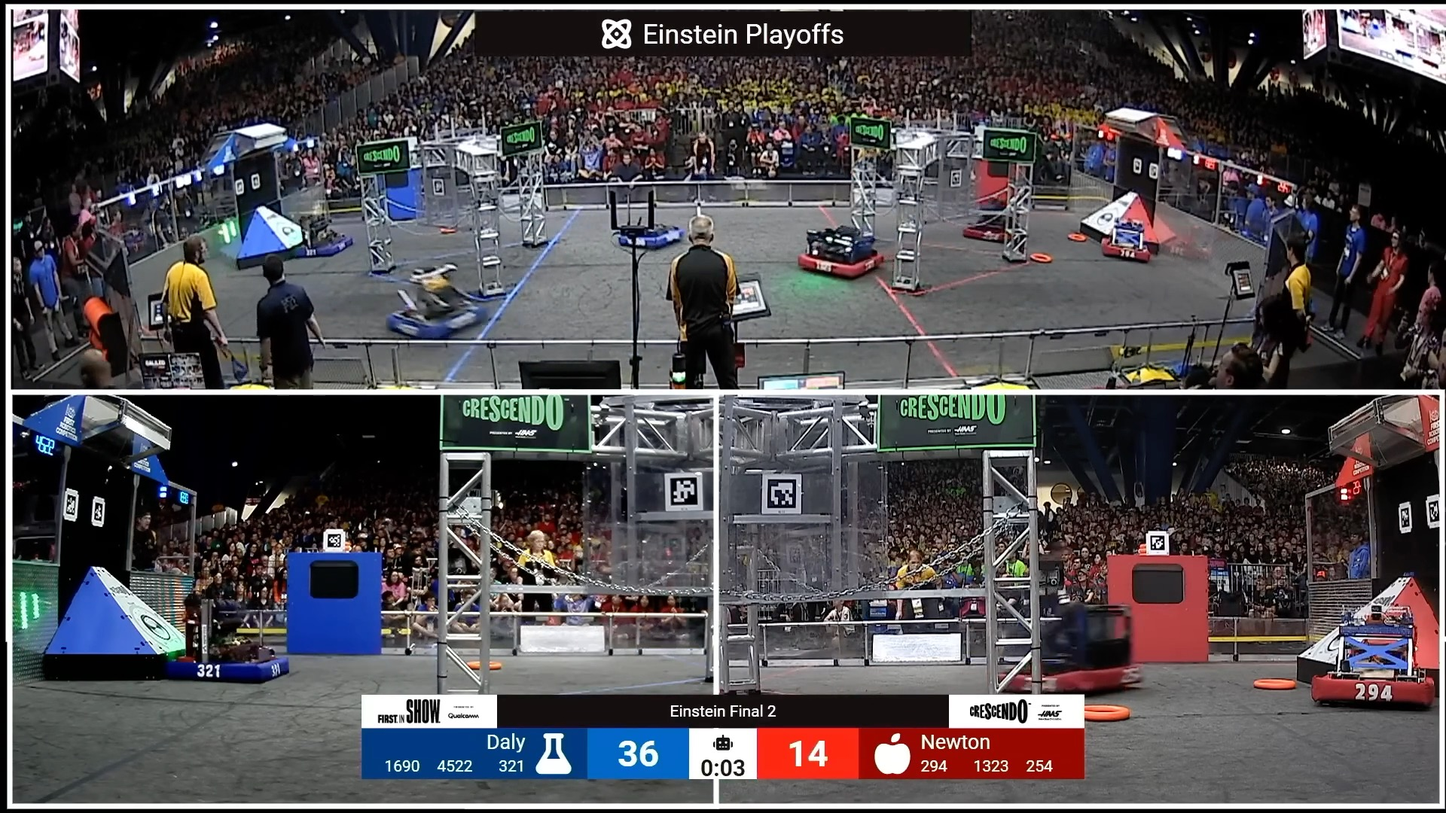bumpers: (375, 296, 502, 346), (1312, 674, 1443, 713), (998, 668, 1151, 701), (180, 649, 302, 689), (1085, 221, 1179, 271), (791, 241, 892, 284), (611, 225, 690, 250), (960, 225, 1027, 249), (294, 234, 356, 258)
